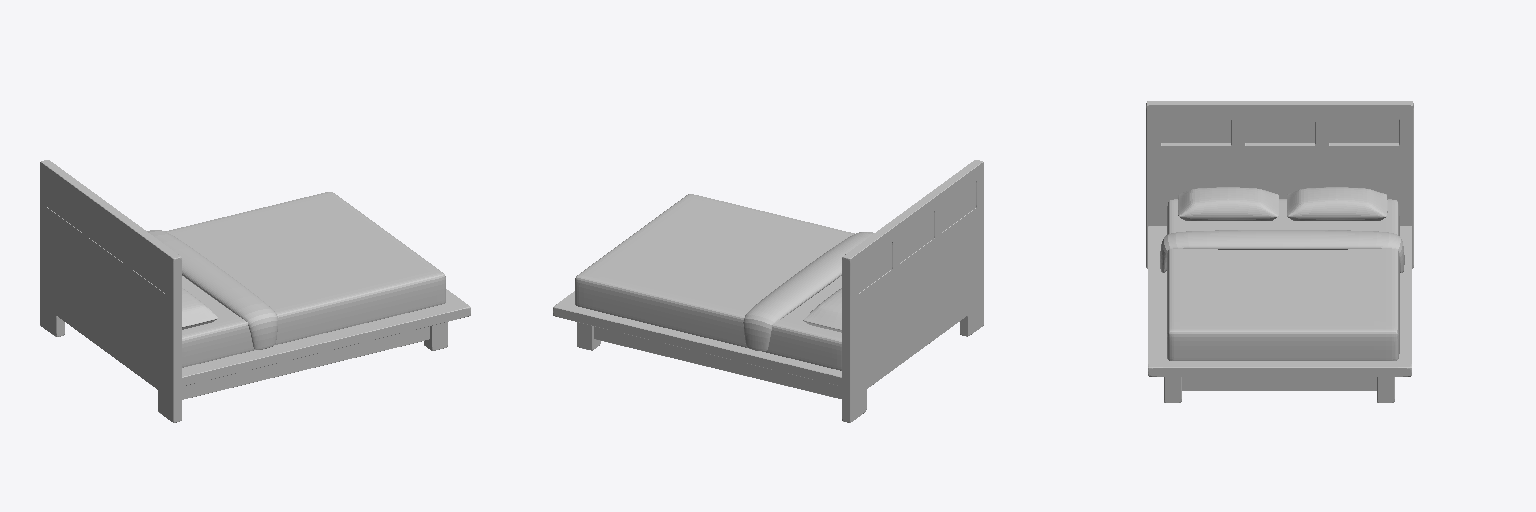
The model's file is bed.obj.
The picture shows the model from 3 angles: view 1: azimuth 30°, elevation 25°; view 2: azimuth 150°, elevation 25°; view 3: azimuth 270°, elevation 25°; orthographic projection.
Parts seen in each view (by area): view 1: 10236_Master_Bed_King_Size_v1_L3b; view 2: 10236_Master_Bed_King_Size_v1_L3b; view 3: 10236_Master_Bed_King_Size_v1_L3b.
Part boxes in pixels (x1,y1,x2,y2): 10236_Master_Bed_King_Size_v1_L3b: (40, 160, 470, 422); 10236_Master_Bed_King_Size_v1_L3b: (553, 160, 983, 422); 10236_Master_Bed_King_Size_v1_L3b: (1146, 101, 1413, 402).
Size of the model in its own units: 22.58 by 11.89 by 17.49.